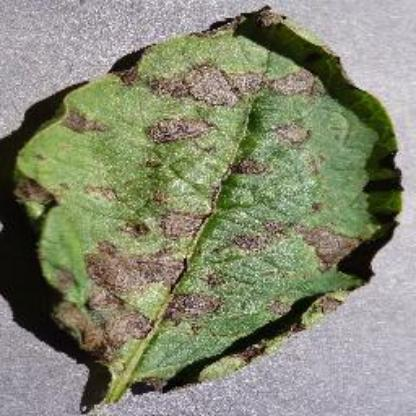Early-Blight: (9, 6, 406, 408)
